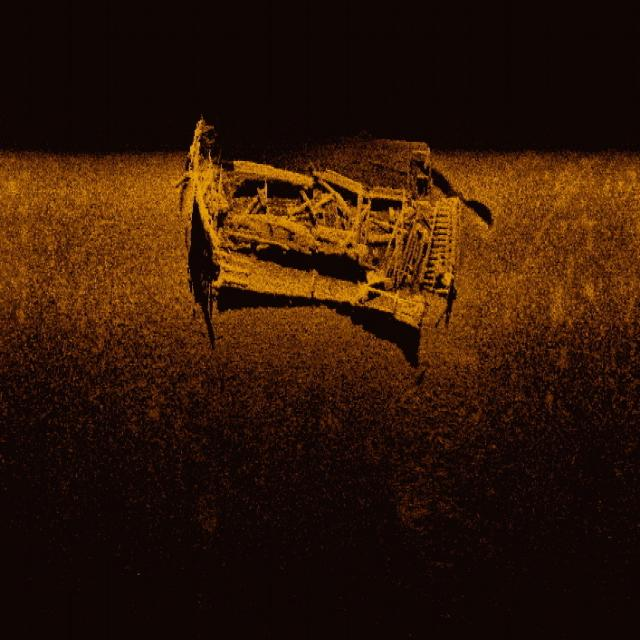ship: (181, 107, 468, 331)
